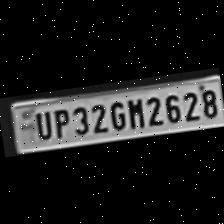2: (140, 92, 164, 128), (86, 99, 109, 135), (178, 87, 200, 123)
3: (68, 101, 90, 136)
6: (160, 90, 182, 124)
8: (196, 84, 219, 119)
G: (106, 97, 128, 132)
M: (123, 94, 145, 130)
P: (49, 104, 71, 139)
U: (30, 107, 52, 141)
